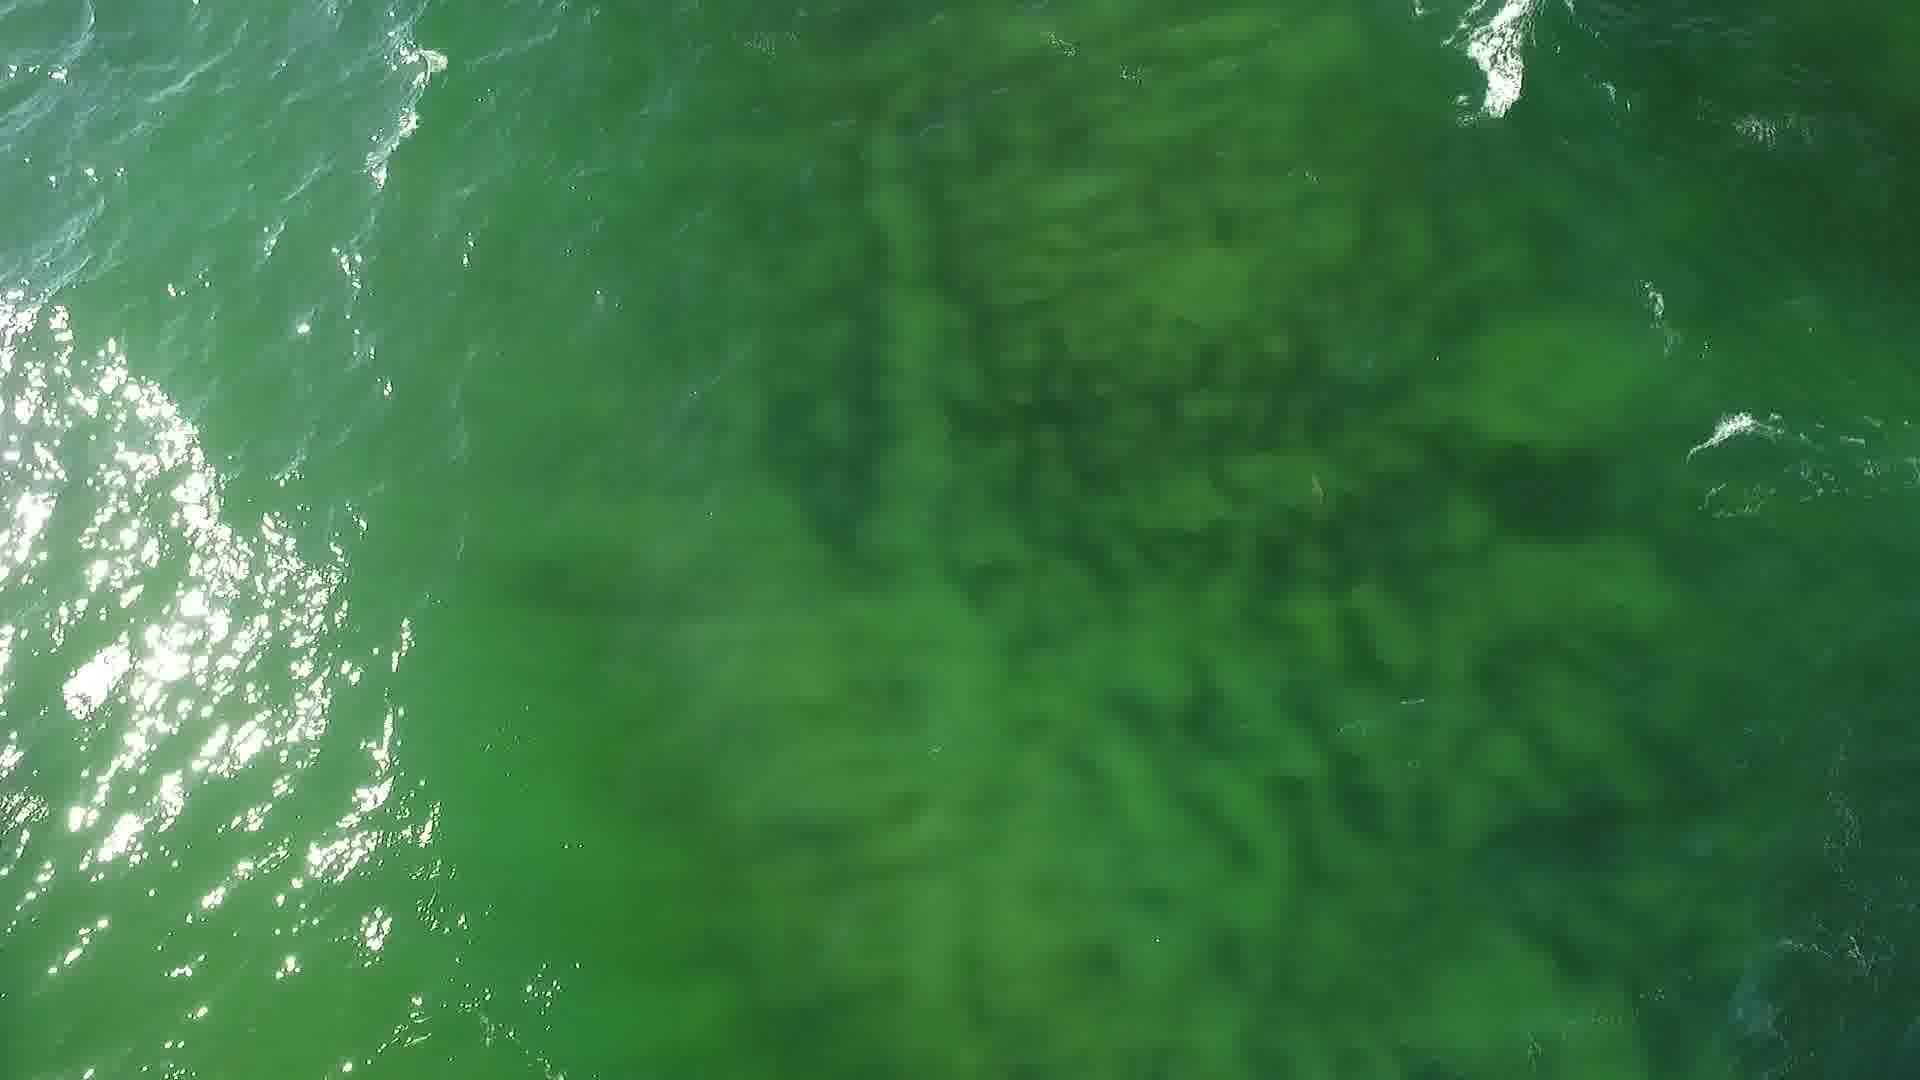shark: (1302, 472, 1335, 506)
